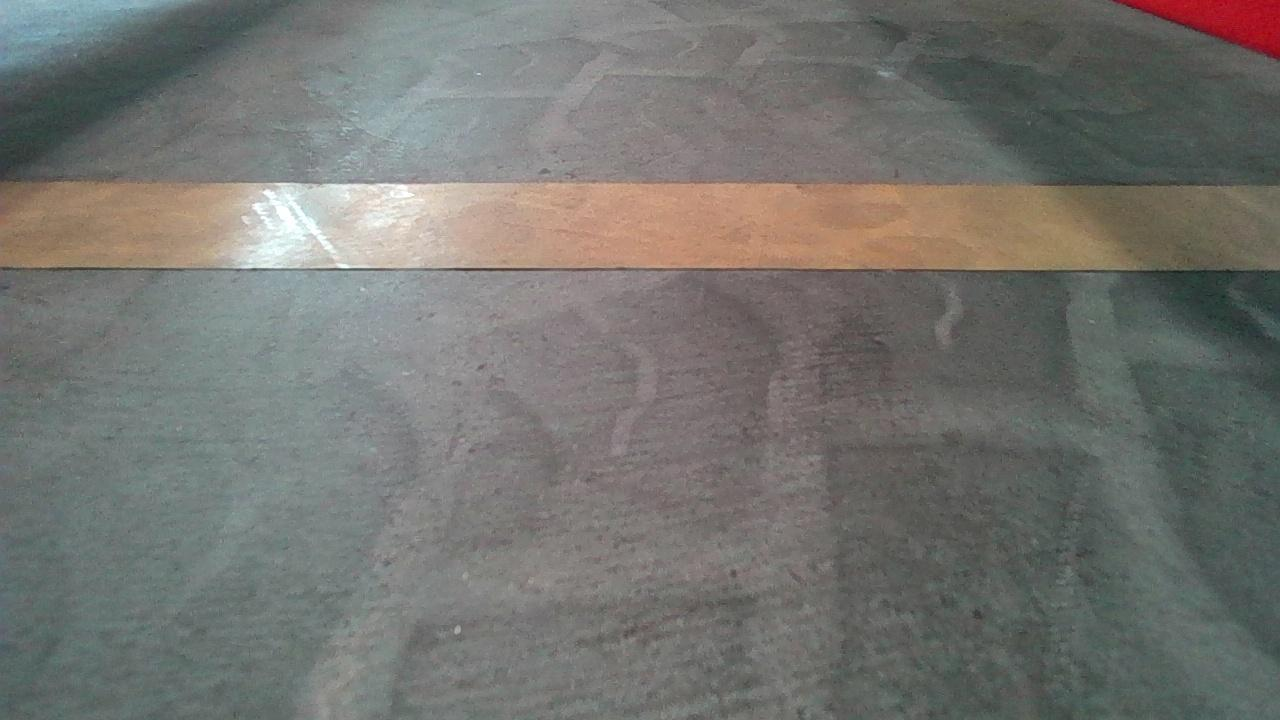yellow_line: (0, 171, 1275, 277)
